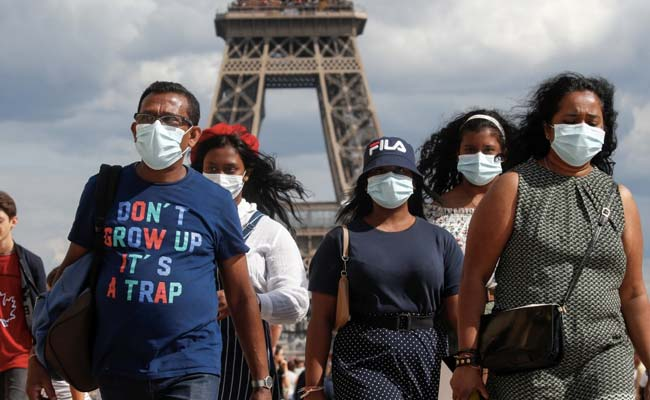with_mask: (135, 100, 191, 169), (551, 98, 607, 165), (456, 133, 504, 185), (364, 162, 416, 208), (202, 155, 248, 200)
